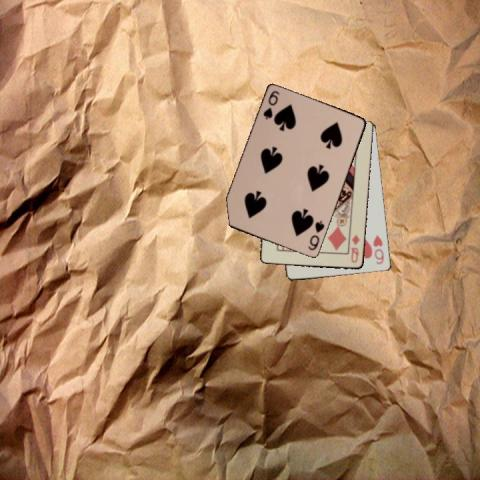6h: (371, 233, 385, 266)
6s: (305, 218, 326, 252), (260, 88, 281, 121)
Qd: (348, 232, 361, 265)
